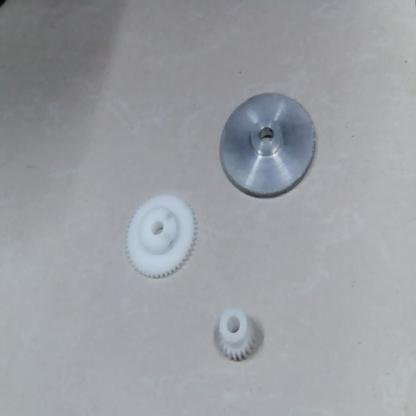FOD: (219, 84, 319, 204), (122, 194, 198, 284), (216, 312, 259, 360)
